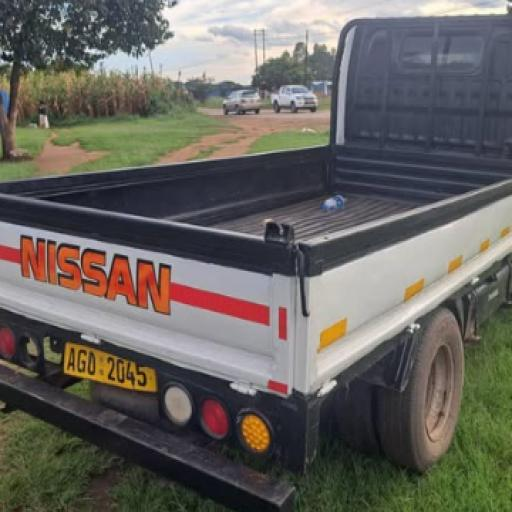number-plates: (64, 343, 149, 391)
